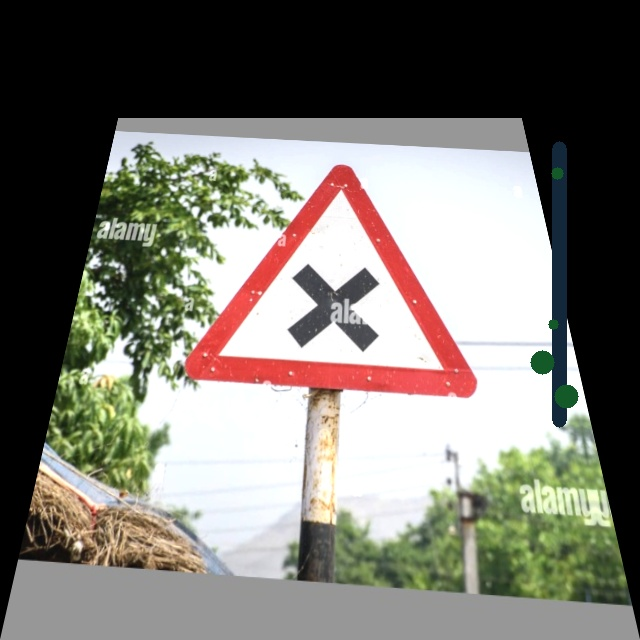Cross_Road: (179, 156, 497, 396)
